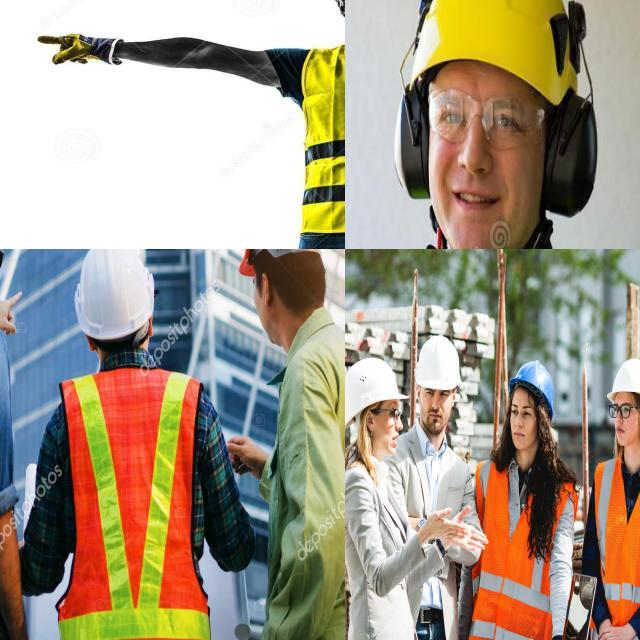No_Ear-Protection: (256, 268, 274, 310), (361, 408, 378, 433), (450, 386, 458, 409), (415, 383, 423, 404)
No_Glasses: (507, 399, 537, 422), (420, 385, 452, 402)
face_nomask: (420, 64, 557, 249), (363, 396, 398, 462), (504, 388, 539, 448), (417, 386, 457, 435), (609, 389, 640, 443)
glasses: (424, 85, 550, 154), (607, 402, 634, 422), (387, 404, 403, 424)
hand_glove: (29, 13, 144, 92)
hand_noglove: (452, 498, 492, 566), (419, 504, 469, 554), (605, 615, 635, 640)
head_helmet: (399, 0, 600, 108), (70, 249, 163, 342), (345, 357, 409, 428), (508, 359, 555, 418), (414, 334, 462, 391), (606, 358, 640, 421)
person: (28, 249, 240, 640), (362, 0, 640, 249), (238, 249, 345, 640), (475, 353, 571, 640), (400, 326, 479, 640), (246, 0, 345, 249), (345, 338, 408, 640), (580, 357, 640, 640)
vest: (42, 360, 226, 640), (471, 454, 558, 640), (295, 45, 345, 229), (601, 451, 640, 640)
